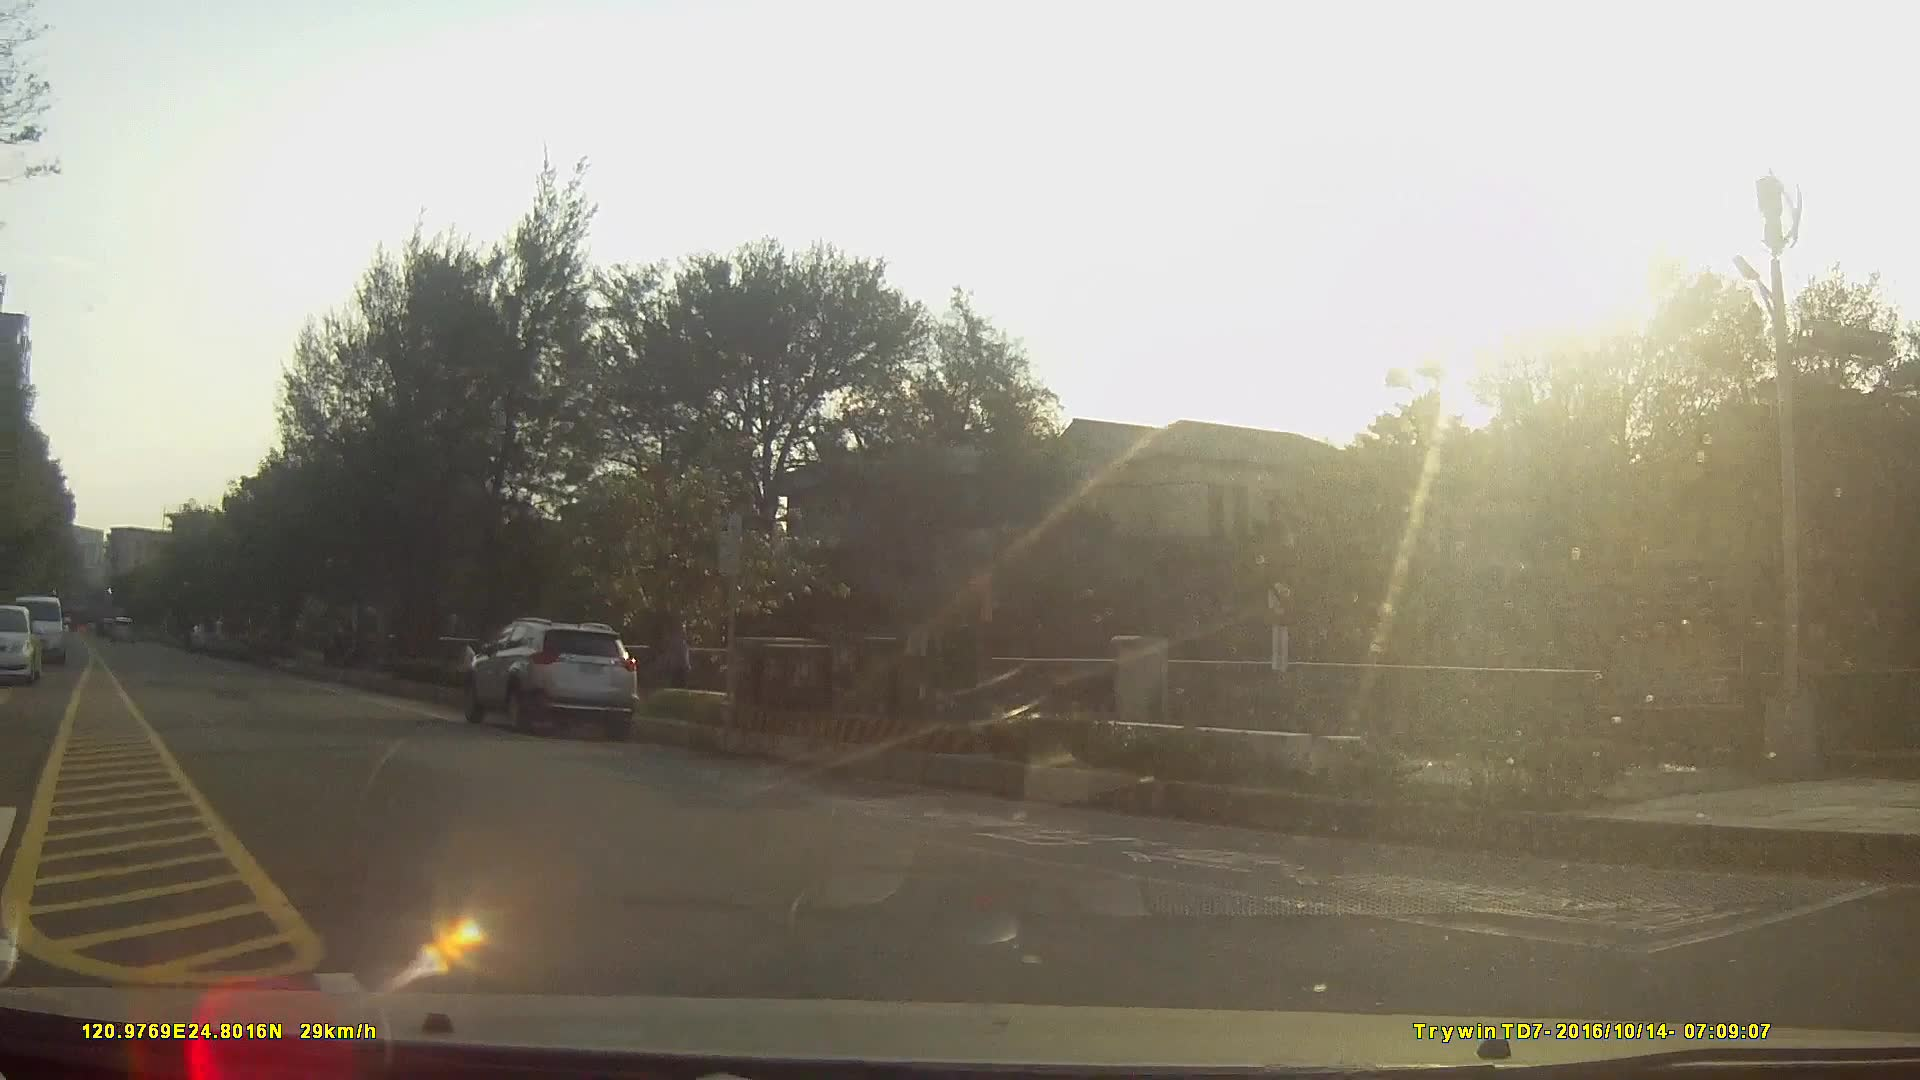vehicle: (459, 618, 640, 733), (11, 596, 66, 669), (0, 603, 40, 687)
